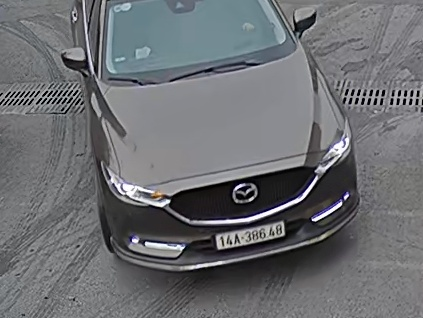vehicle plate: (212, 220, 290, 250)
